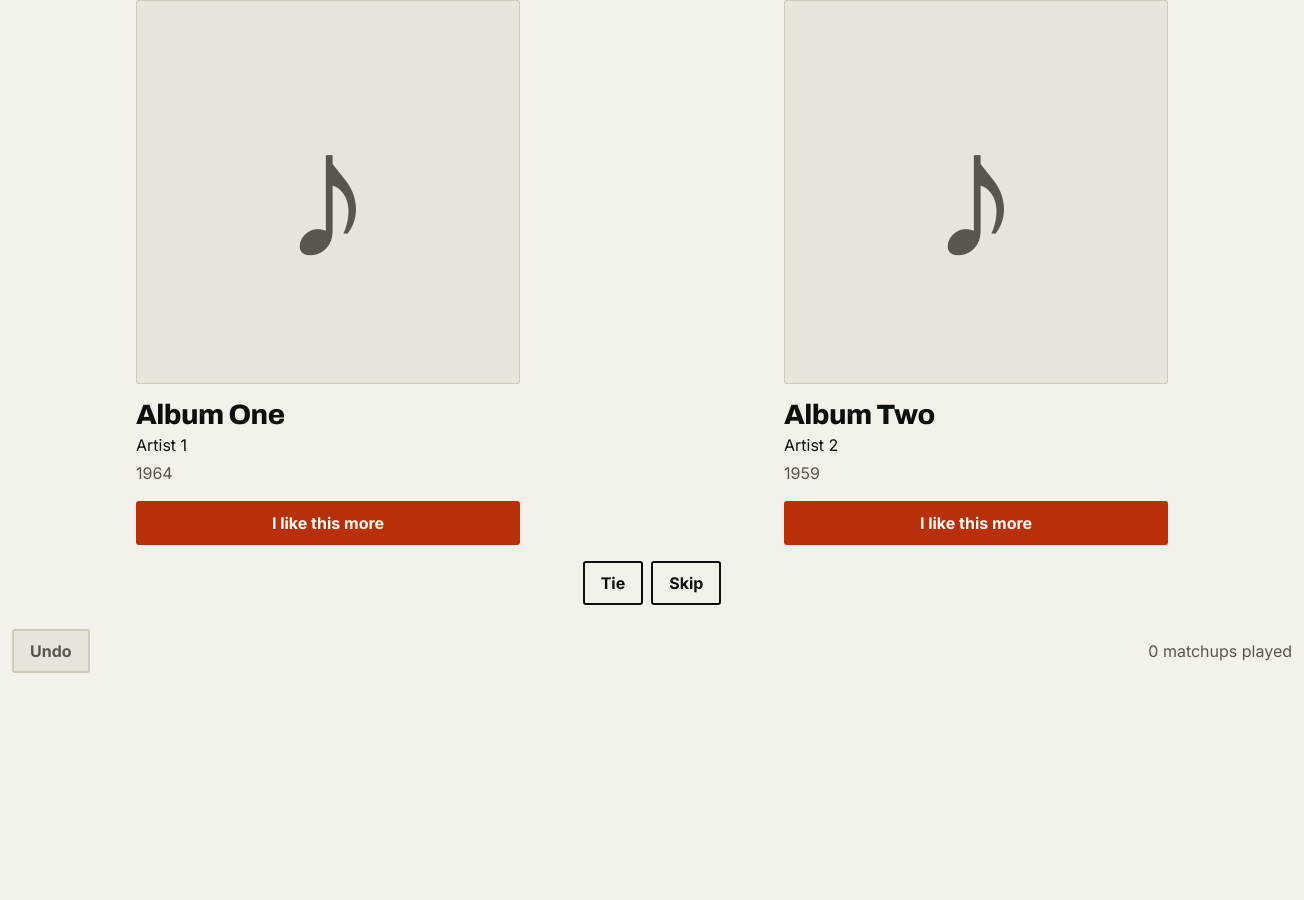
Test: matchup screen › skip shows the next pair, and sends the skipped pair as avoided on the next call
Click the button "Skip". click: [686, 583]
box: top-left (651, 561), bottom-right (721, 605)
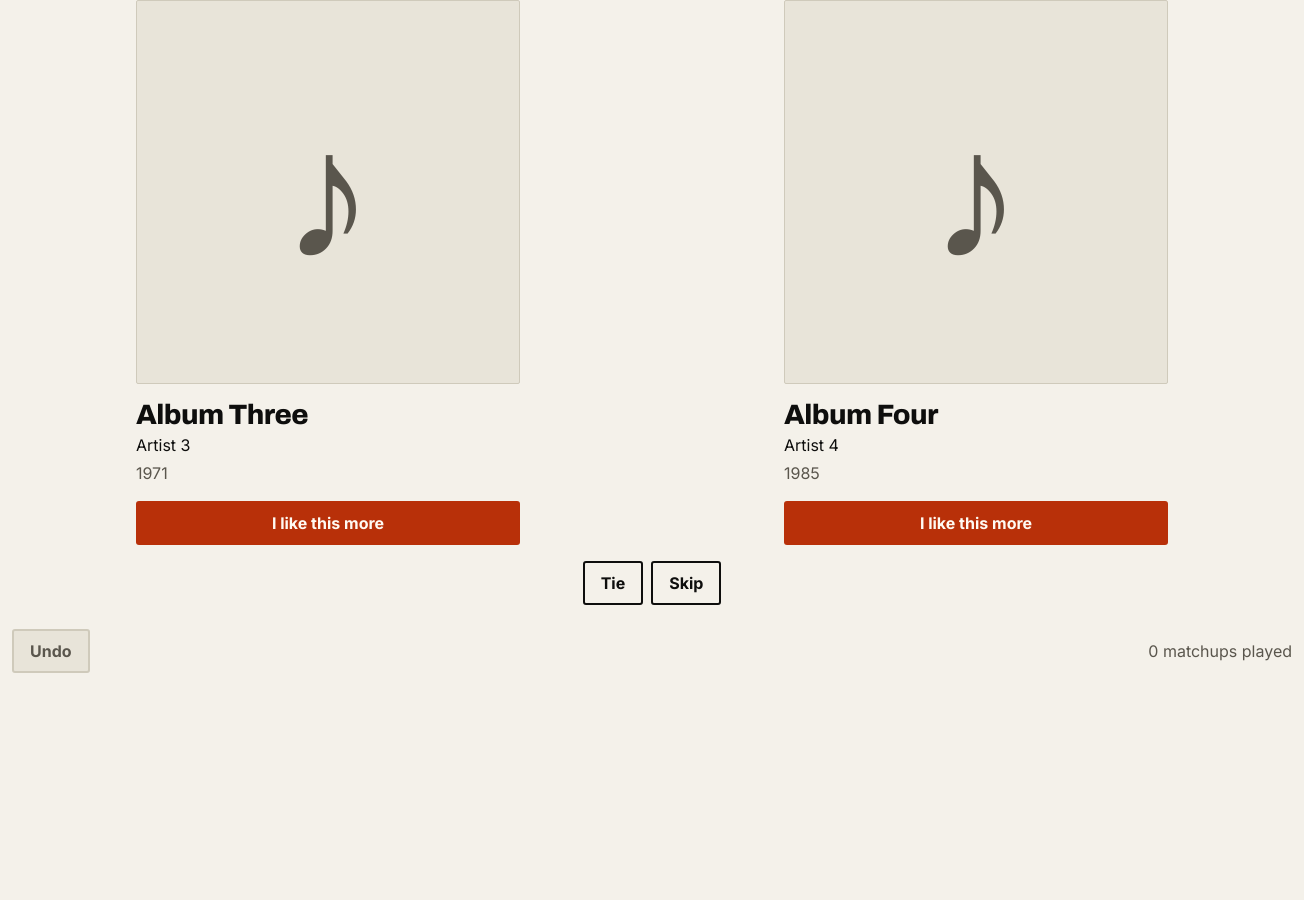
Now the text "Album Three" is shown, box top-left (136, 399), bottom-right (308, 430)
Click the button "Tie". click: [613, 583]
box: top-left (583, 561), bottom-right (643, 605)
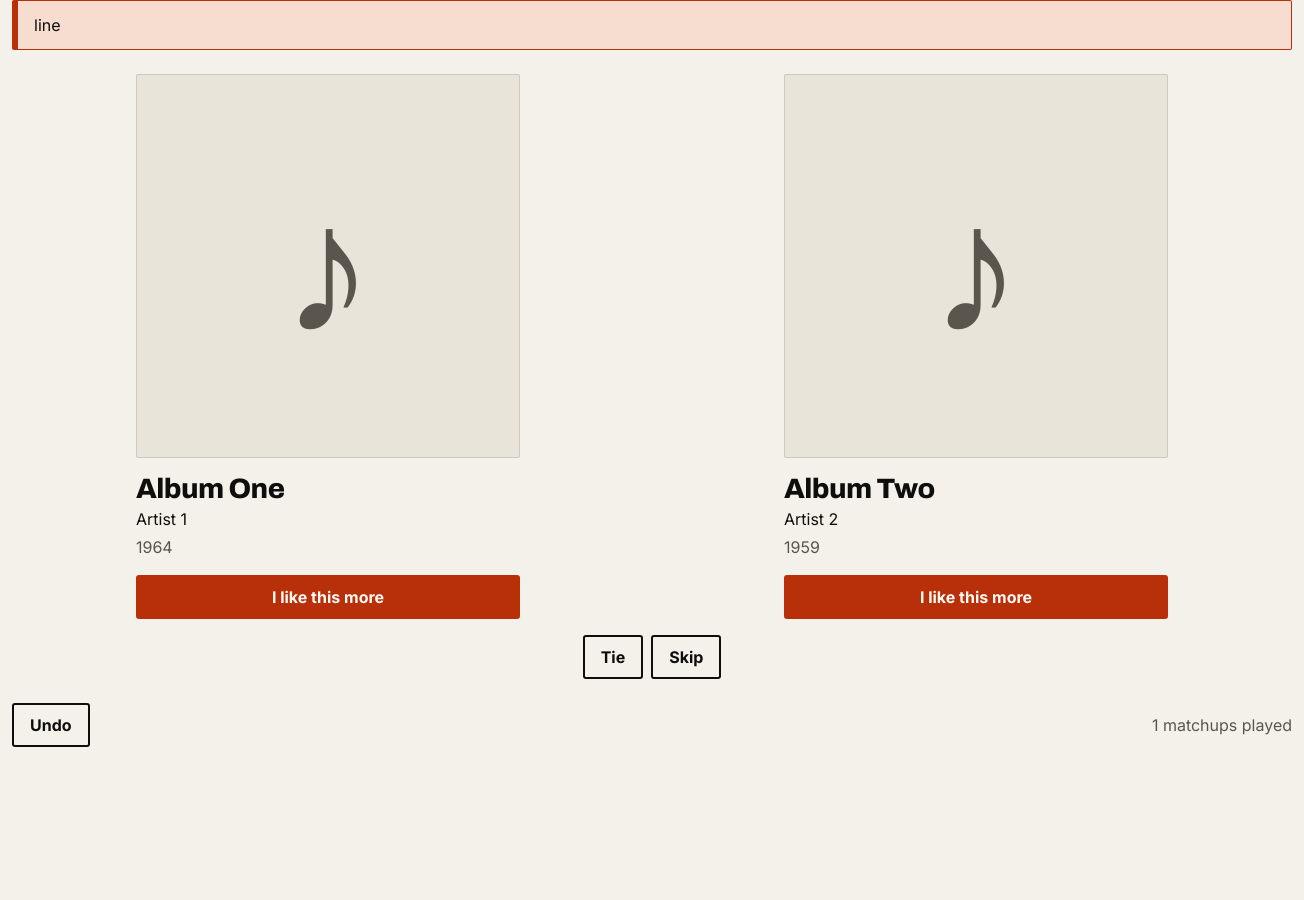
Now the text "Album One" is shown, box top-left (136, 473), bottom-right (284, 504)
